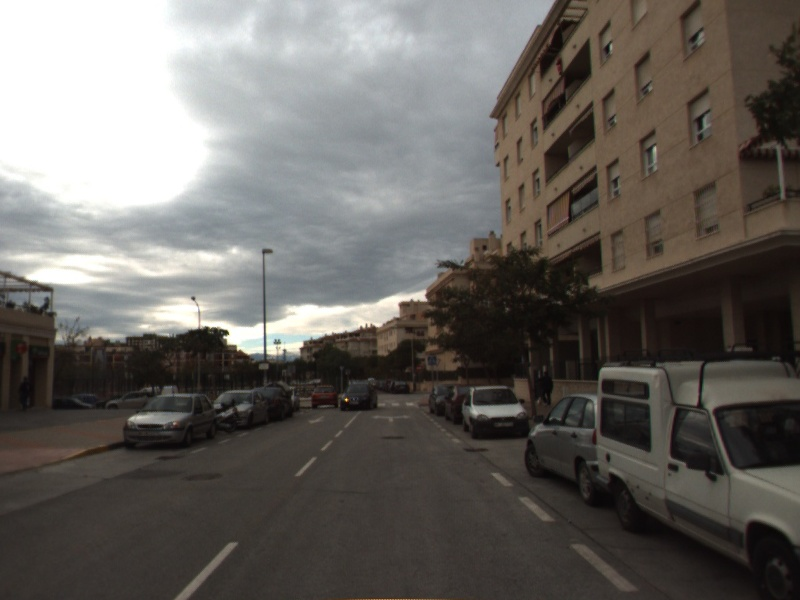LEFT_RIGHT: (370, 412, 413, 424)
